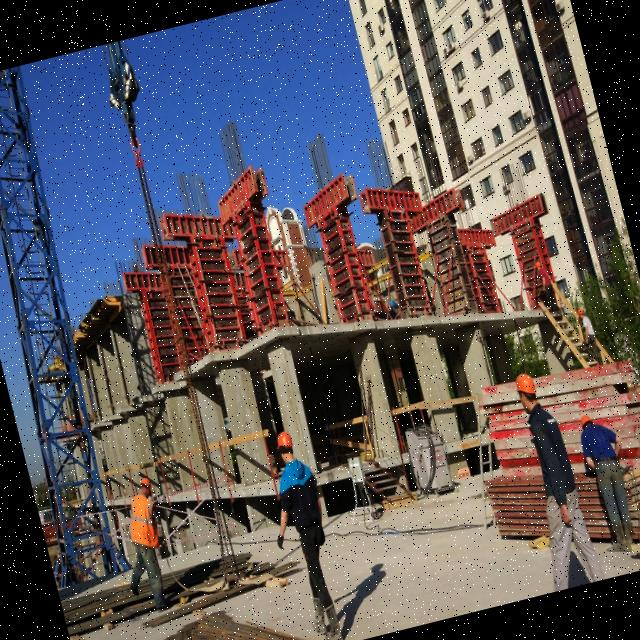Helmet: (512, 372, 539, 400), (273, 430, 296, 454), (139, 477, 155, 497), (580, 413, 594, 428), (534, 261, 543, 270), (577, 308, 585, 318)
Jacket: (128, 496, 165, 552)
NoJacket: (530, 407, 577, 511), (280, 454, 322, 536), (586, 424, 617, 473), (583, 318, 597, 341), (540, 266, 552, 289)
